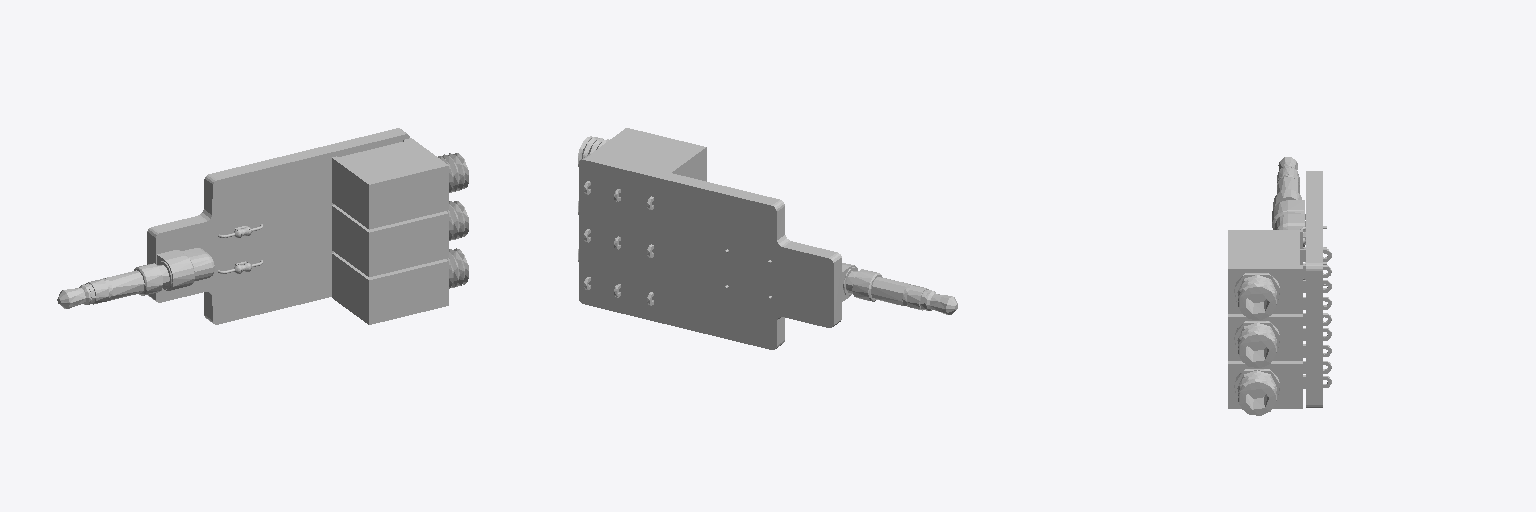
The model's file is OBJ_PCB_Stereo to mono plug adapter.obj.
3 renders of one model, left to right at view 1: azimuth 30°, elevation 25°; view 2: azimuth 150°, elevation 25°; view 3: azimuth 270°, elevation 25°, orthographic.
Bounding box in the file's own units: 266 × 95.26 × 61.78.